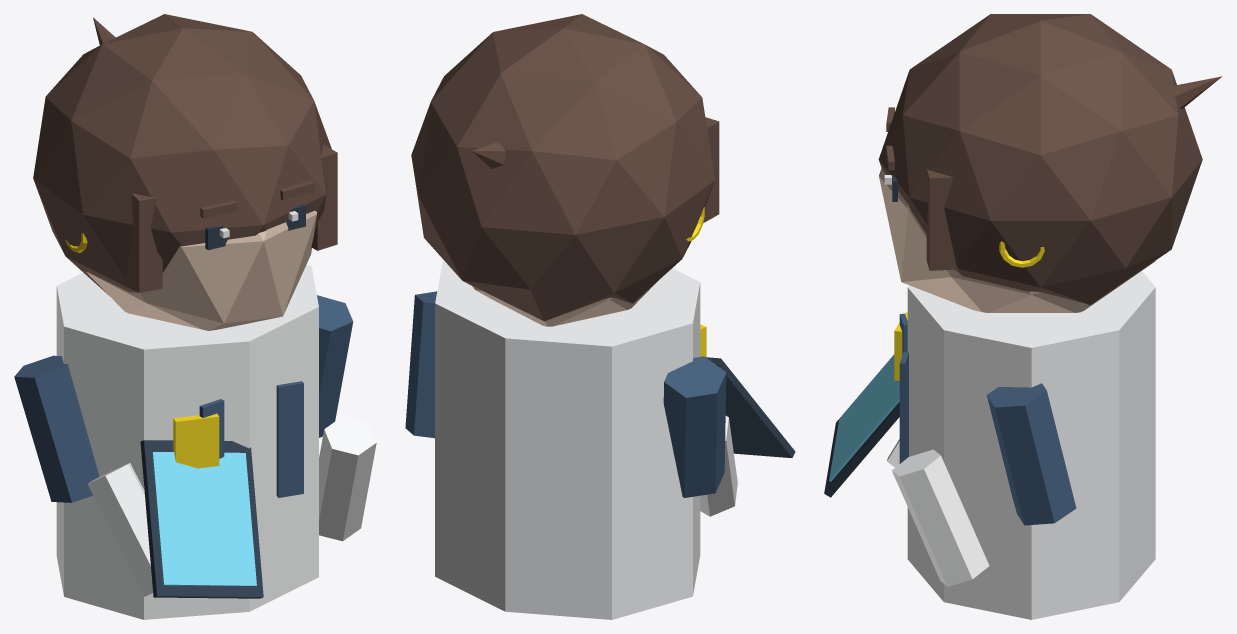
Rendered from priya.glb.
The picture shows the model from 3 angles, left to right: view 1: azimuth 30°, elevation 25°; view 2: azimuth 150°, elevation 25°; view 3: azimuth 270°, elevation 25°; orthographic projection.
Parts seen in each view (by area): view 1: Priya_HairCap, Priya_Torso, Priya_Head, TabletScreen, LeftUpperArm, RightForearm, StudyTablet, LeftForearm, RightUpperArm, Lapel_R, Bang_L, AABadgeCrest (+2 smaller); view 2: Priya_Torso, Priya_HairCap, LeftUpperArm, RightUpperArm, StudyTablet, Priya_Head, LeftForearm, Bang_L, Priya_Ponytail; view 3: Priya_HairCap, Priya_Torso, RightUpperArm, RightForearm, Priya_Head, TabletScreen, Bang_R, StudyTablet, Lapel_R, Priya_Ponytail.
Part boxes in pixels (box(x1,y1,x2,y2)): Priya_HairCap: box(33, 14, 331, 295); Priya_Torso: box(56, 264, 318, 619); Priya_Head: box(86, 210, 316, 330); TabletScreen: box(152, 452, 256, 585); LeftUpperArm: box(14, 355, 99, 502); RightForearm: box(319, 416, 376, 541); StudyTablet: box(140, 440, 263, 598); LeftForearm: box(87, 463, 152, 596); RightUpperArm: box(317, 295, 353, 437); Lapel_R: box(276, 381, 303, 497); Bang_L: box(125, 193, 162, 292); AABadgeCrest: box(173, 413, 219, 468); Priya_Torso: box(435, 261, 700, 619); Priya_HairCap: box(411, 14, 714, 321); LeftUpperArm: box(663, 356, 726, 497); RightUpperArm: box(405, 291, 437, 438); StudyTablet: box(706, 357, 795, 457); Priya_Head: box(471, 281, 657, 326); LeftForearm: box(700, 416, 737, 516); Bang_L: box(703, 117, 719, 223); Priya_Ponytail: box(472, 142, 505, 168); Priya_HairCap: box(878, 14, 1202, 304); Priya_Torso: box(907, 271, 1155, 619); RightUpperArm: box(987, 383, 1076, 525); RightForearm: box(892, 449, 989, 586); Priya_Head: box(879, 168, 1155, 312); TabletScreen: box(829, 355, 899, 481); Bang_R: box(926, 169, 958, 270); StudyTablet: box(824, 357, 899, 497); Lapel_R: box(899, 352, 908, 463); Priya_Ponytail: box(1169, 76, 1222, 108).
Size of the model in its own units: 0.805 by 1.31 by 0.8768.
